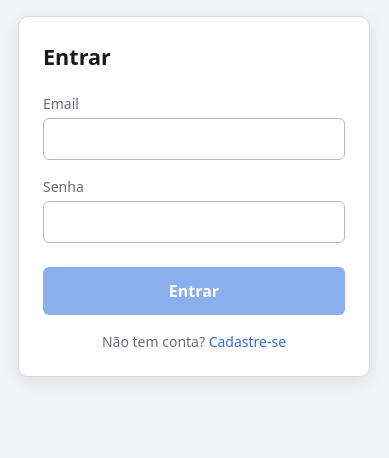
LoginView › shows a specific message on 429 rate-limited responses
Type "alice@example.com" into the field with test id "email" at (194, 139), box [43,118,345,160]
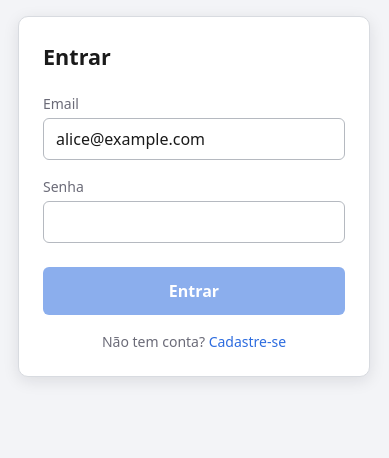
Type "Password123" into the password field with test id "password" at (194, 222), box [43,201,345,243]
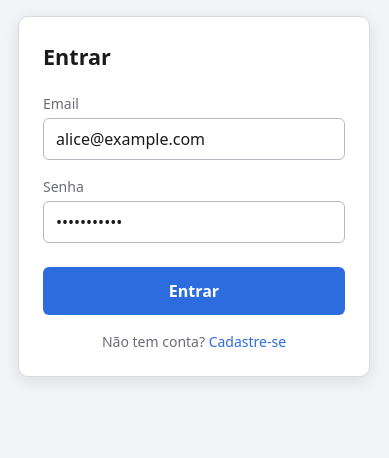
Submit the form, box [43,93,345,352]
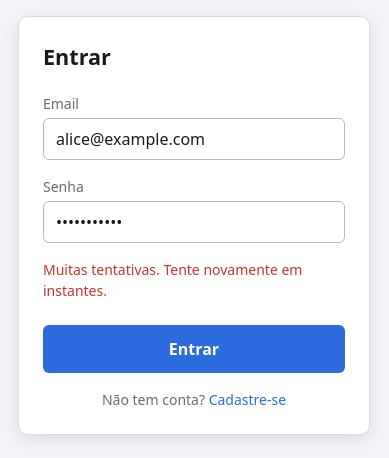
Expected: the message with test id "form-error" shows "Muitas tentativas", [43,260,302,300]
